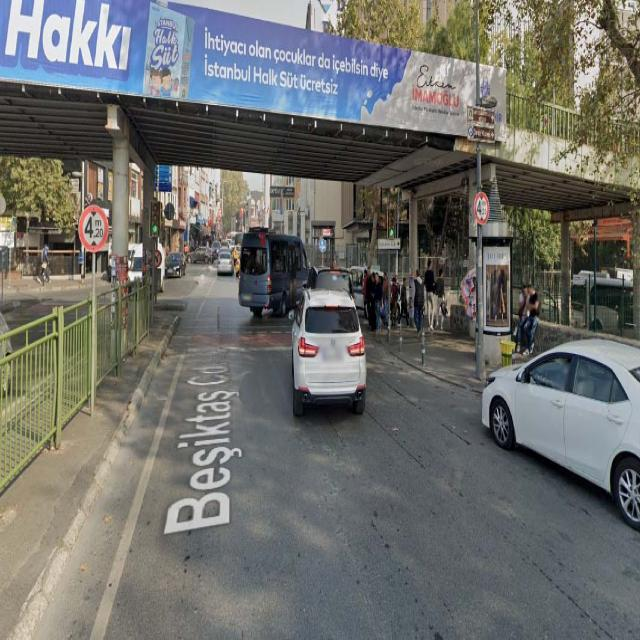yesil: (151, 200, 160, 238), (388, 207, 396, 240)
